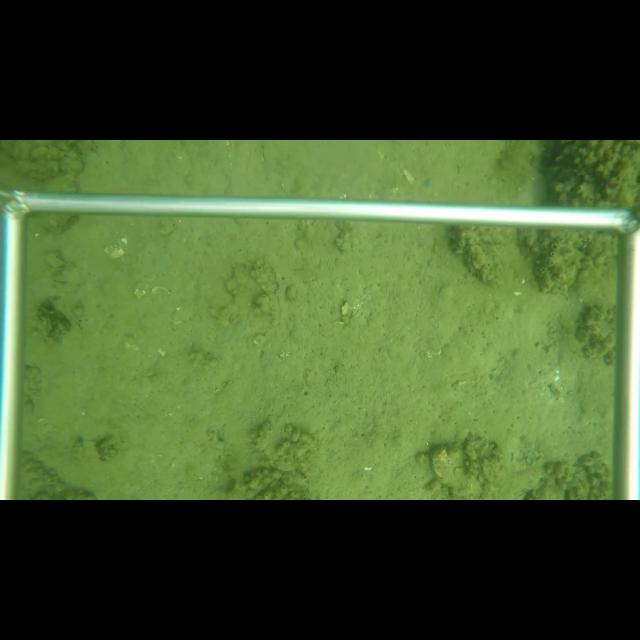Oyster-Closed: (259, 415, 322, 474), (450, 228, 505, 285), (429, 444, 467, 491), (477, 452, 491, 479)
